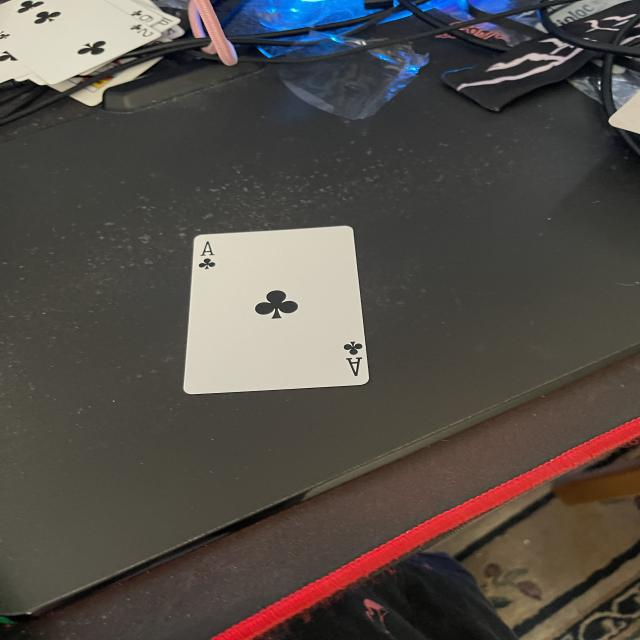Ace of clubs: (188, 227, 382, 398)
